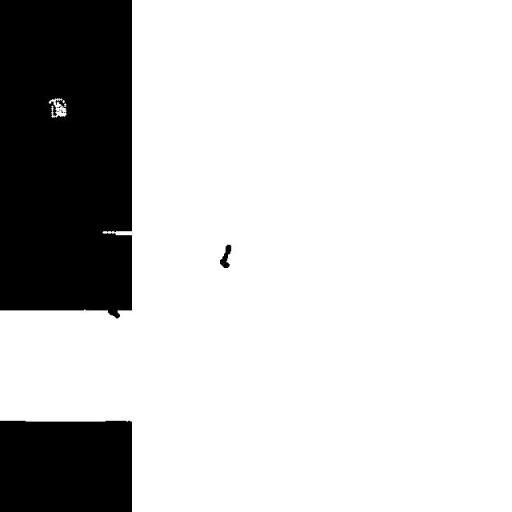copper: (212, 237, 238, 275)
mousebite: (94, 224, 141, 242)
pin-hole: (40, 90, 74, 125)
spur: (100, 299, 127, 326)
